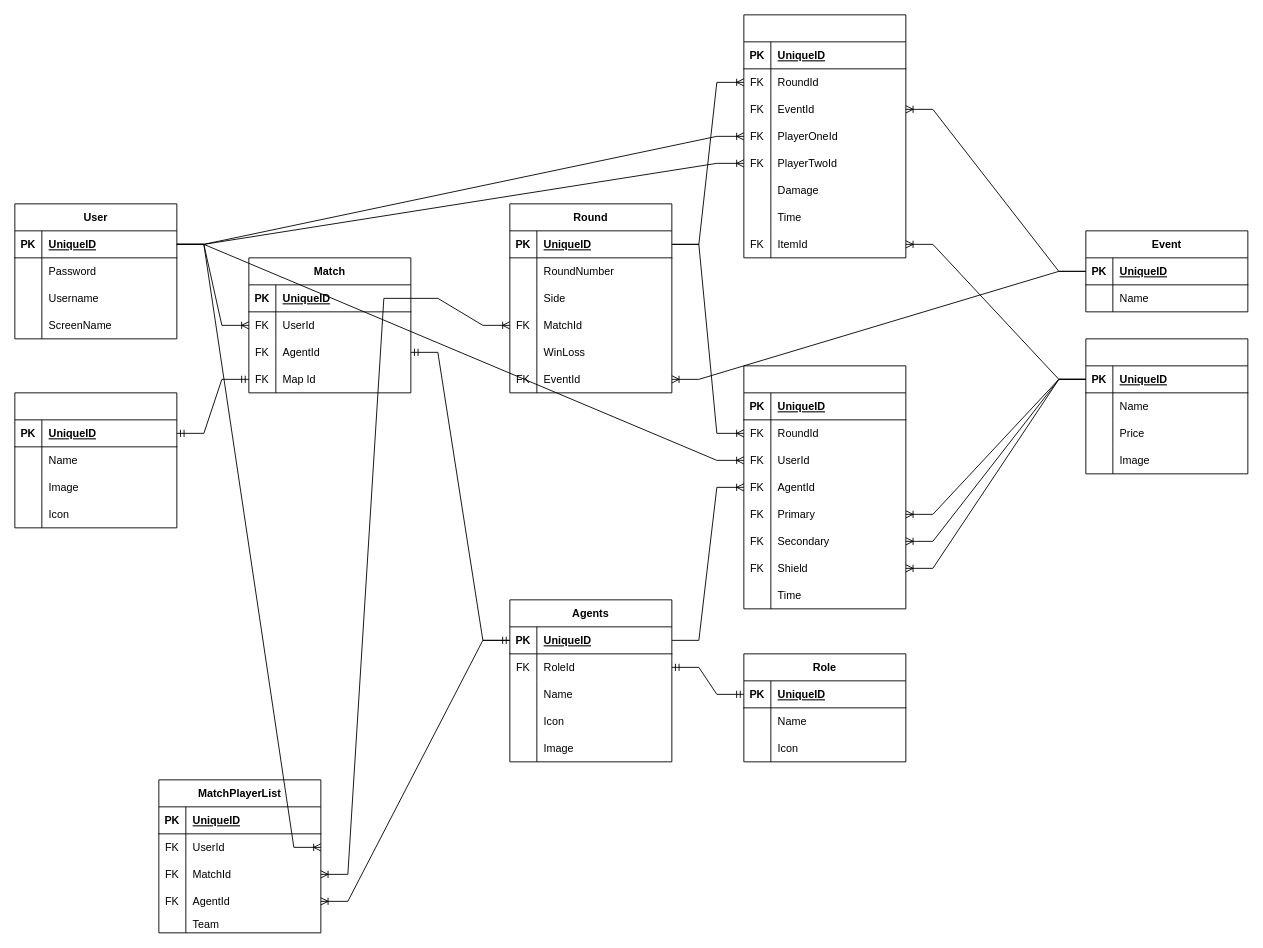
The diagram is 1263 pixels wide and 948 high, and some of its shapes have lost their labels. Each missing label, with the box of its shape:
Items: (1085, 338, 1248, 474)
Maps: (14, 392, 177, 528)
RoundDetail: (743, 14, 906, 258)
RoundEquipmentDetail: (743, 365, 906, 609)
